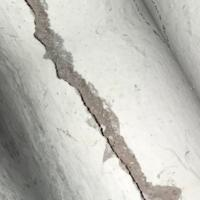crack: (15, 0, 173, 199)
